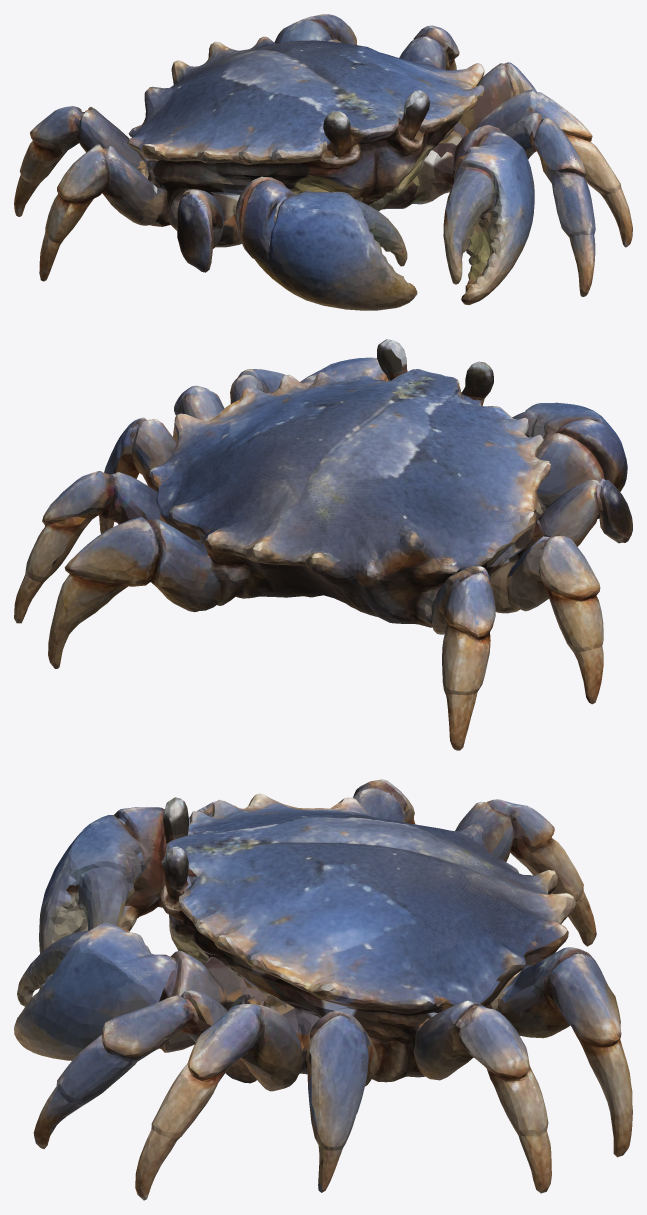
File: tide_crab.glb
The picture shows the model from 3 angles, top to bottom: view 1: azimuth 30°, elevation 25°; view 2: azimuth 150°, elevation 25°; view 3: azimuth 270°, elevation 25°; orthographic projection. The views are drawn at different scales.
Parts seen in each view (by area): view 1: temp_mesh.ply; view 2: temp_mesh.ply; view 3: temp_mesh.ply.
Boxes of the visible parts, x1,y1,x2,y2 form: temp_mesh.ply: (14,14,632,310); temp_mesh.ply: (14,339,632,750); temp_mesh.ply: (14,779,632,1200).
Size of the model in its own units: 1.97 by 0.7568 by 1.79.
1 material, 1 textured.
